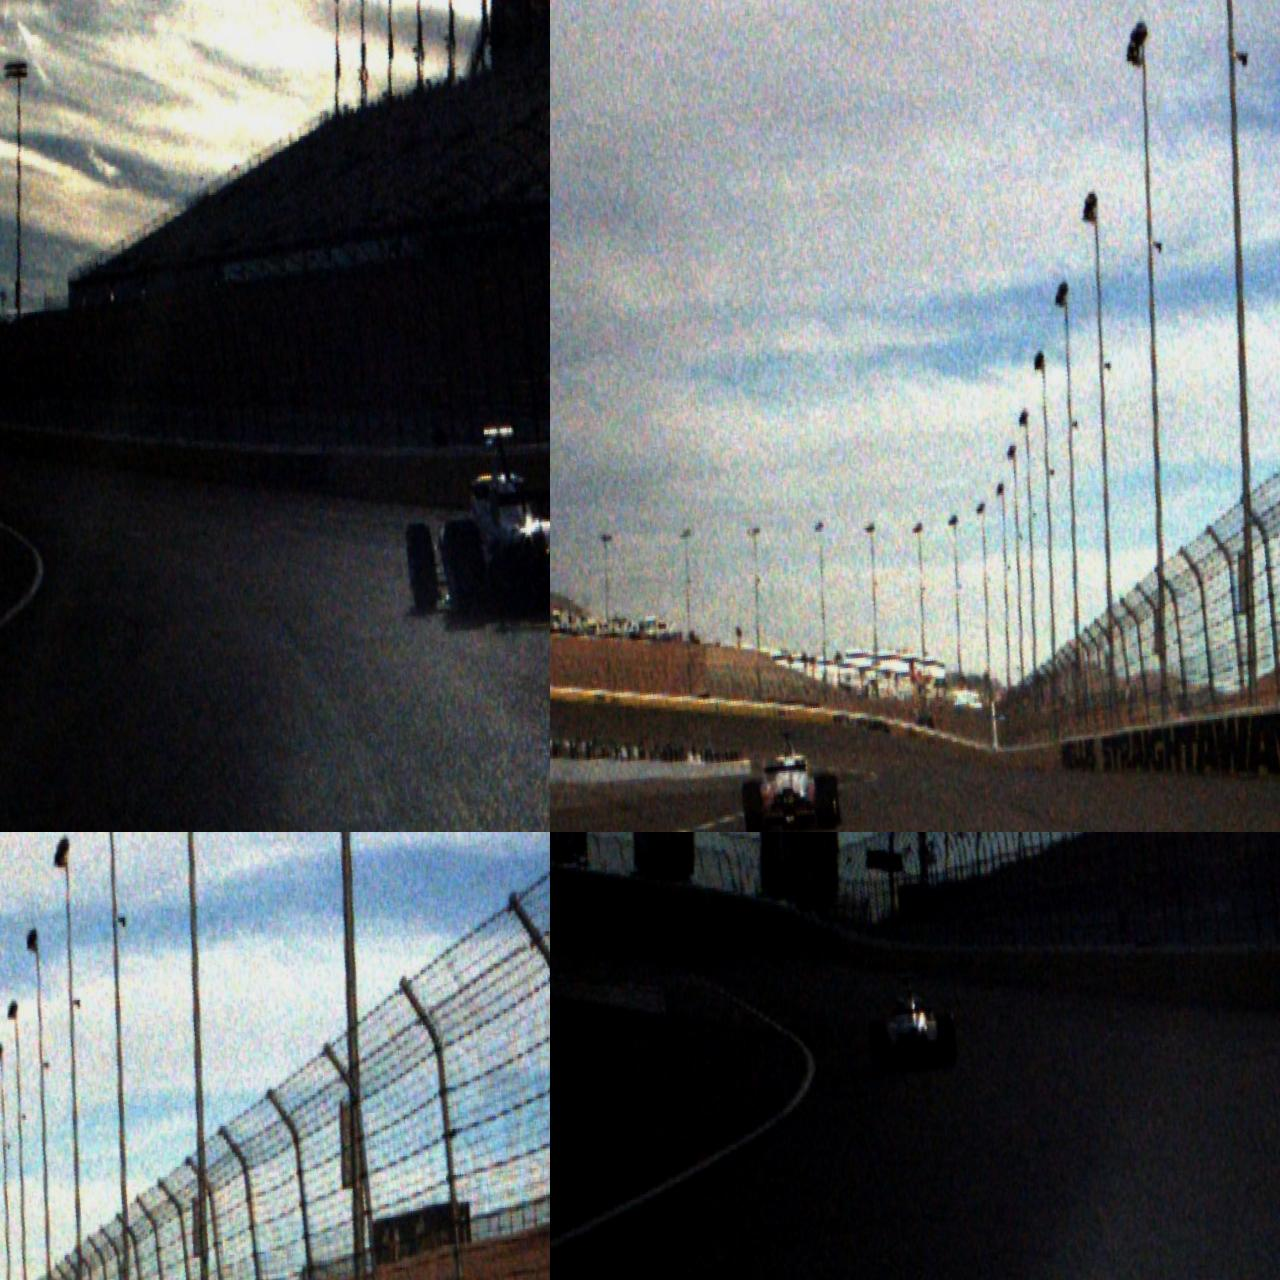AV: (396, 417, 550, 634), (737, 727, 842, 832), (864, 970, 958, 1074)
Wheel: (441, 514, 489, 626), (404, 520, 441, 616), (814, 774, 838, 831), (936, 1014, 959, 1069), (741, 780, 764, 832), (868, 1022, 891, 1074)
